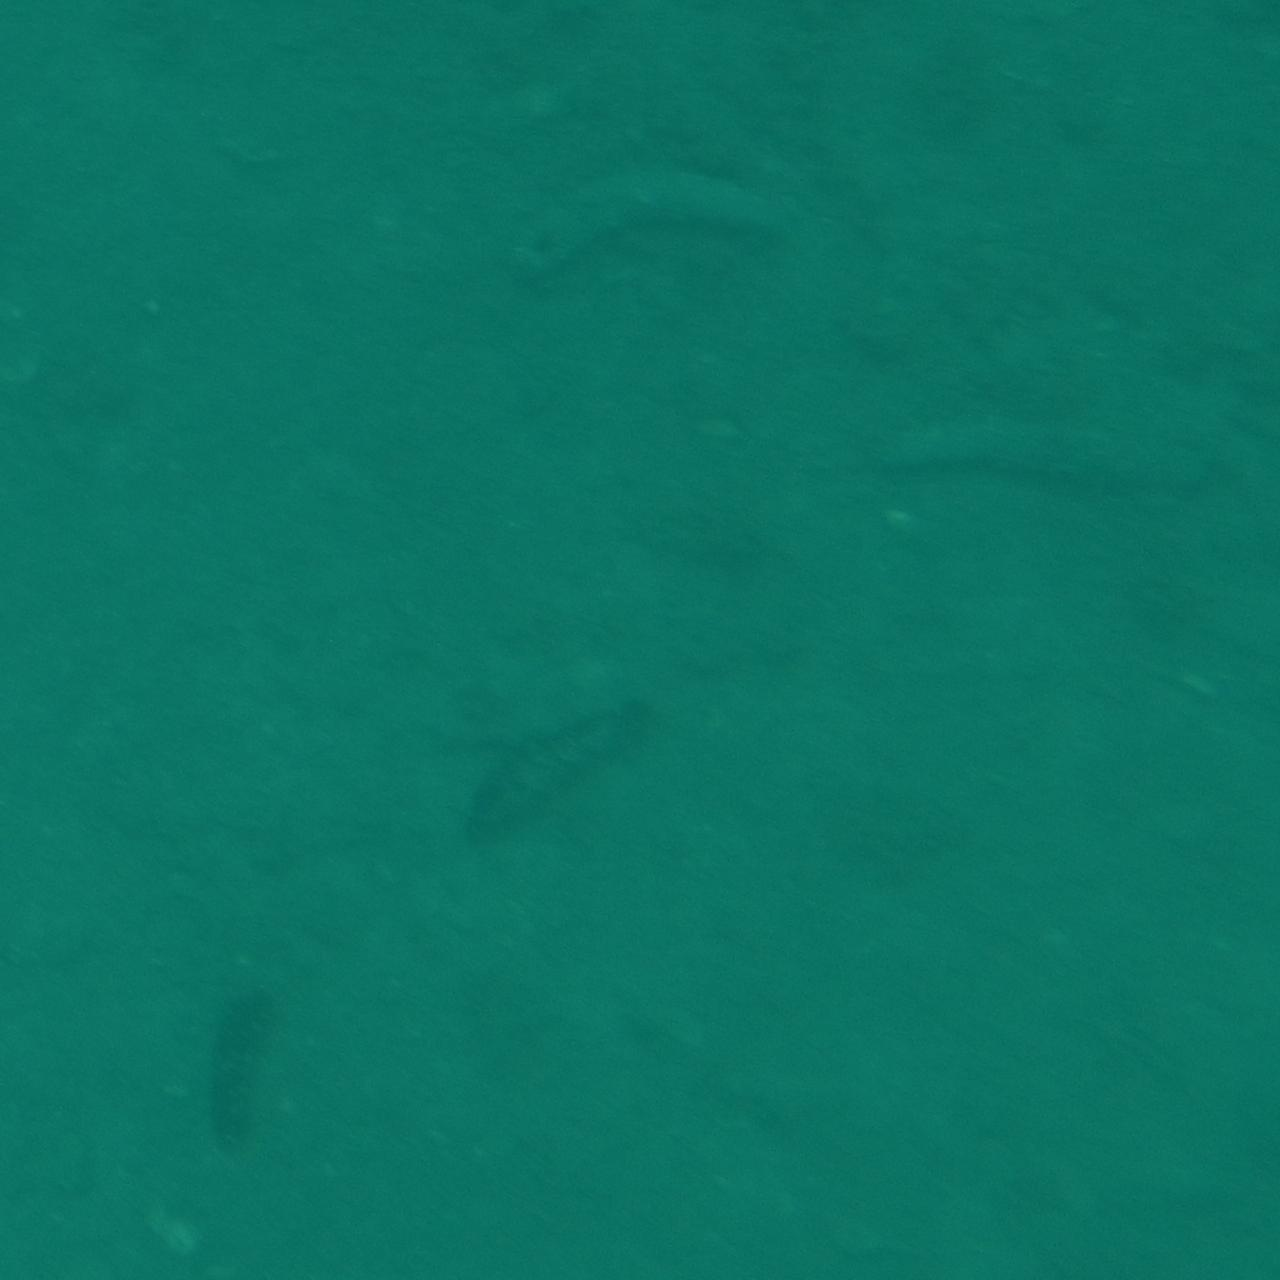Holothuria tubulosa: (504, 139, 796, 299), (459, 682, 670, 864), (852, 404, 1239, 488), (183, 976, 286, 1148)
